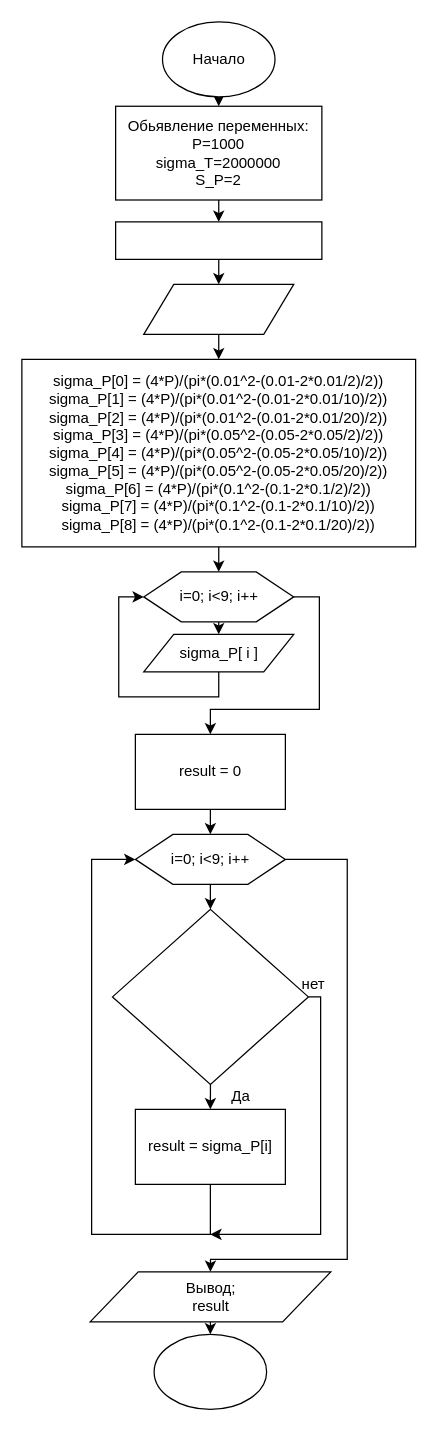
The diagram is 438 pixels wide and 1431 high, and some of its shapes have lost their labels. Each missing label, with the centre of its shape:
"S_opt = sigma_T/S_P" belongs at (x=218, y=240).
"sigma_P[i] > result && sigma_P[i] < Sopt" belongs at (x=209, y=996).
"Вывод: S_opt" belongs at (x=218, y=308).
"Конец" belongs at (x=210, y=1371).
